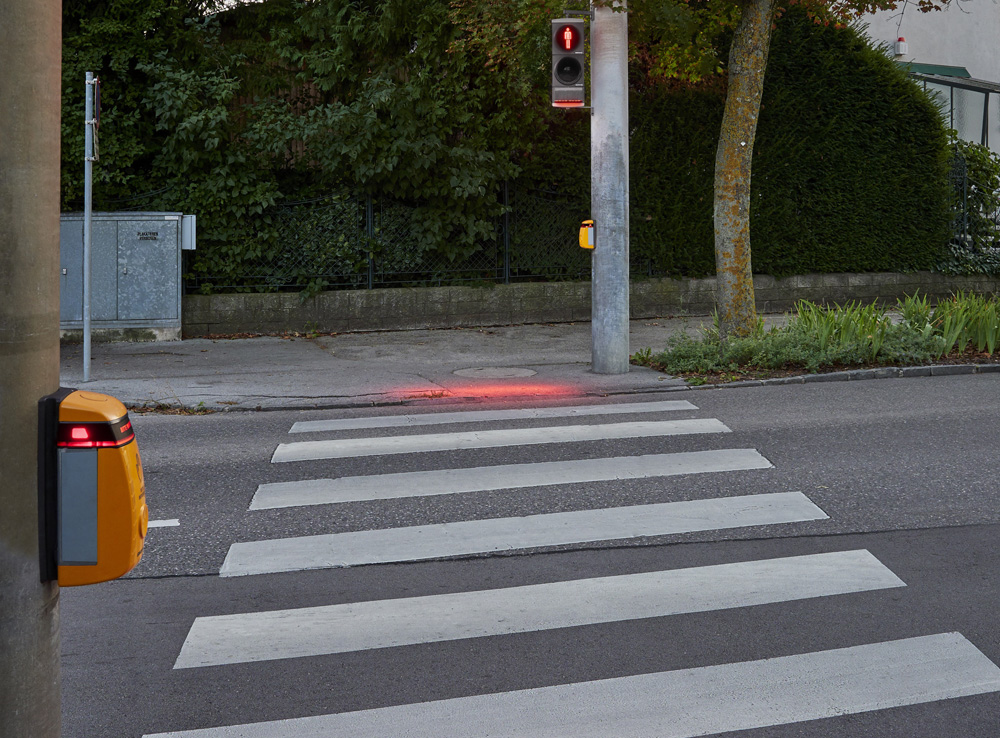trafficlight: (552, 17, 591, 115)
zebracross: (285, 409, 919, 738)
